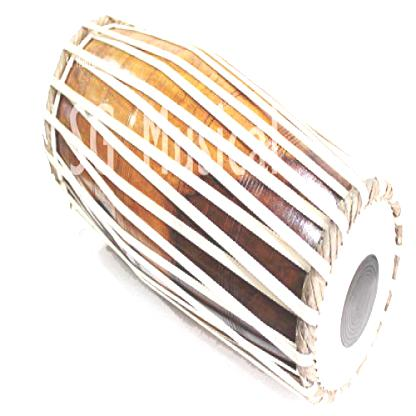Mridangam: (39, 4, 411, 412)
